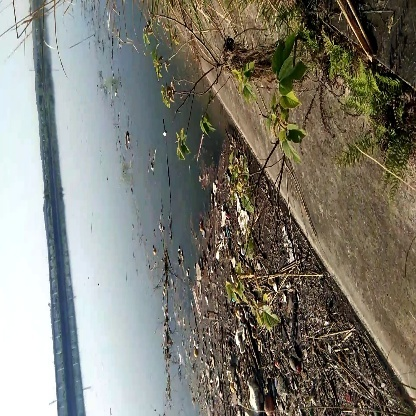plastic-garbage: (240, 376, 264, 416)
